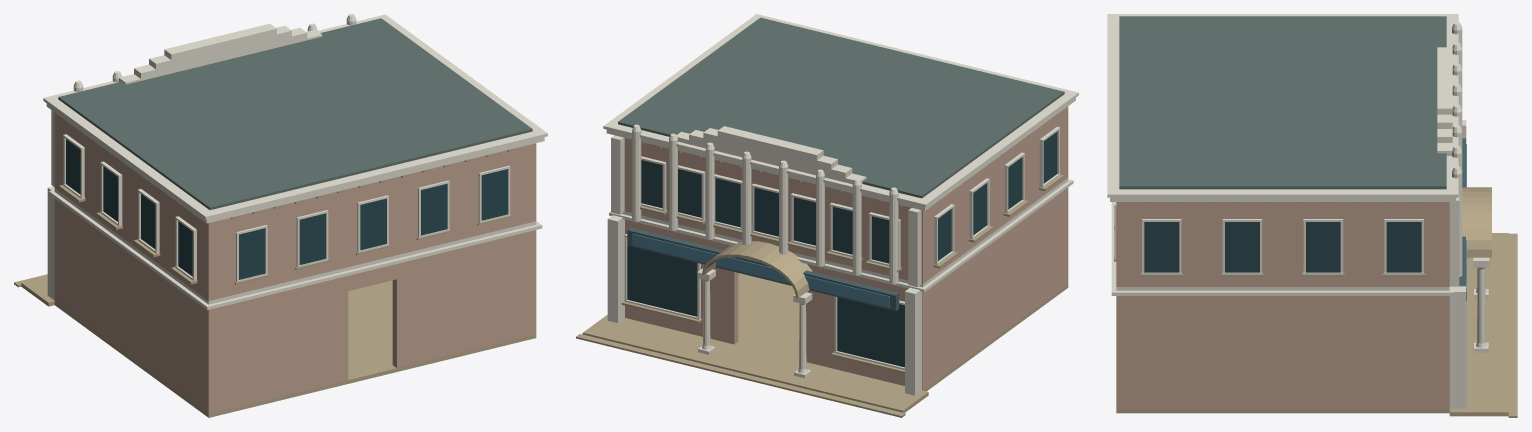
The model's file is KOL_T25_FASHION.fbx.
The picture shows the model from 3 angles, left to right: view 1: azimuth 30°, elevation 25°; view 2: azimuth 150°, elevation 25°; view 3: azimuth 270°, elevation 25°; orthographic projection. The views are drawn at different scales.
Visible parts, largest first — view 1: KOL_T25_FASHION__Body, KOL_T25_FASHION__Roof, KOL_T25_FASHION__Trim, KOL_T25_FASHION__Glass, KOL_T25_FASHION__Stone; view 2: KOL_T25_FASHION__Roof, KOL_T25_FASHION__Body, KOL_T25_FASHION__Trim, KOL_T25_FASHION__Stone, KOL_T25_FASHION__Glass, KOL_T25_FASHION__Blue, KOL_T25_FASHION__Metal; view 3: KOL_T25_FASHION__Body, KOL_T25_FASHION__Roof, KOL_T25_FASHION__Trim, KOL_T25_FASHION__Stone, KOL_T25_FASHION__Glass, KOL_T25_FASHION__Metal.
Part boxes in pixels (left/top/right/bottom): KOL_T25_FASHION__Body: left=54, top=113, right=536, bottom=413; KOL_T25_FASHION__Roof: left=58, top=18, right=532, bottom=209; KOL_T25_FASHION__Trim: left=43, top=14, right=547, bottom=310; KOL_T25_FASHION__Glass: left=66, top=139, right=508, bottom=279; KOL_T25_FASHION__Stone: left=14, top=121, right=536, bottom=417; KOL_T25_FASHION__Roof: left=618, top=17, right=1064, bottom=198; KOL_T25_FASHION__Body: left=624, top=106, right=1068, bottom=390; KOL_T25_FASHION__Trim: left=603, top=14, right=1078, bottom=395; KOL_T25_FASHION__Stone: left=576, top=114, right=1068, bottom=417; KOL_T25_FASHION__Glass: left=627, top=132, right=1057, bottom=367; KOL_T25_FASHION__Blue: left=632, top=234, right=889, bottom=307; KOL_T25_FASHION__Metal: left=627, top=227, right=899, bottom=311; KOL_T25_FASHION__Body: left=1116, top=202, right=1449, bottom=408; KOL_T25_FASHION__Roof: left=1119, top=16, right=1446, bottom=189; KOL_T25_FASHION__Trim: left=1107, top=14, right=1489, bottom=408; KOL_T25_FASHION__Stone: left=1114, top=187, right=1517, bottom=417; KOL_T25_FASHION__Glass: left=1144, top=222, right=1421, bottom=272; KOL_T25_FASHION__Metal: left=1459, top=138, right=1465, bottom=286.
Size of the model in its own units: 57 by 35.85 by 54.2.
